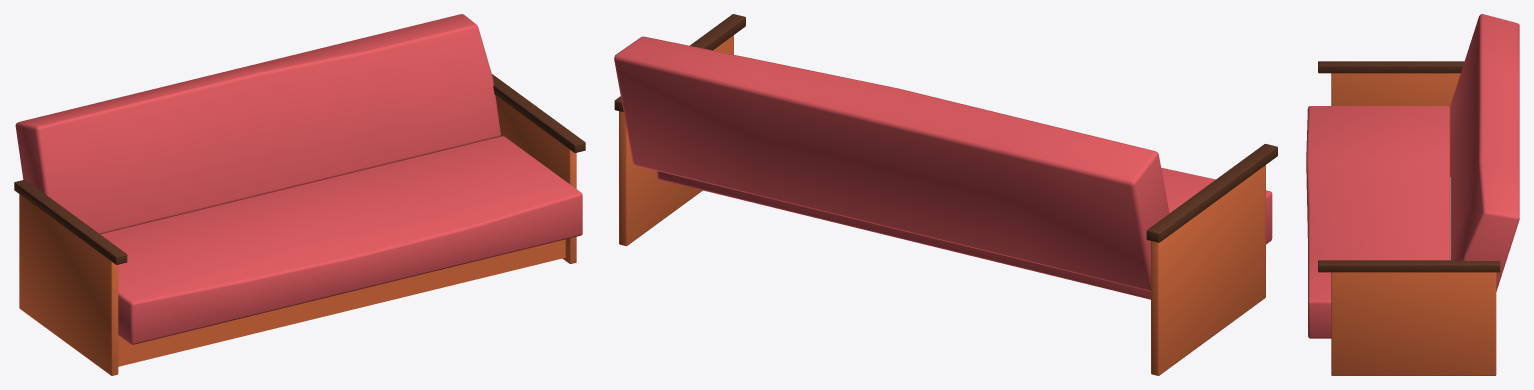
The model's file is sofa.fbx.
The picture shows the model from 3 angles, left to right: view 1: azimuth 30°, elevation 25°; view 2: azimuth 150°, elevation 25°; view 3: azimuth 270°, elevation 25°; orthographic projection. The views are drawn at different scales.
Visible parts, largest first — view 1: Cube; view 2: Cube; view 3: Cube.
Part boxes in pixels (<box>): Cube: <box>14,14,585,375</box>; Cube: <box>614,14,1277,375</box>; Cube: <box>1306,14,1519,375</box>.
Size of the model in its own units: 824 by 311 by 365.
